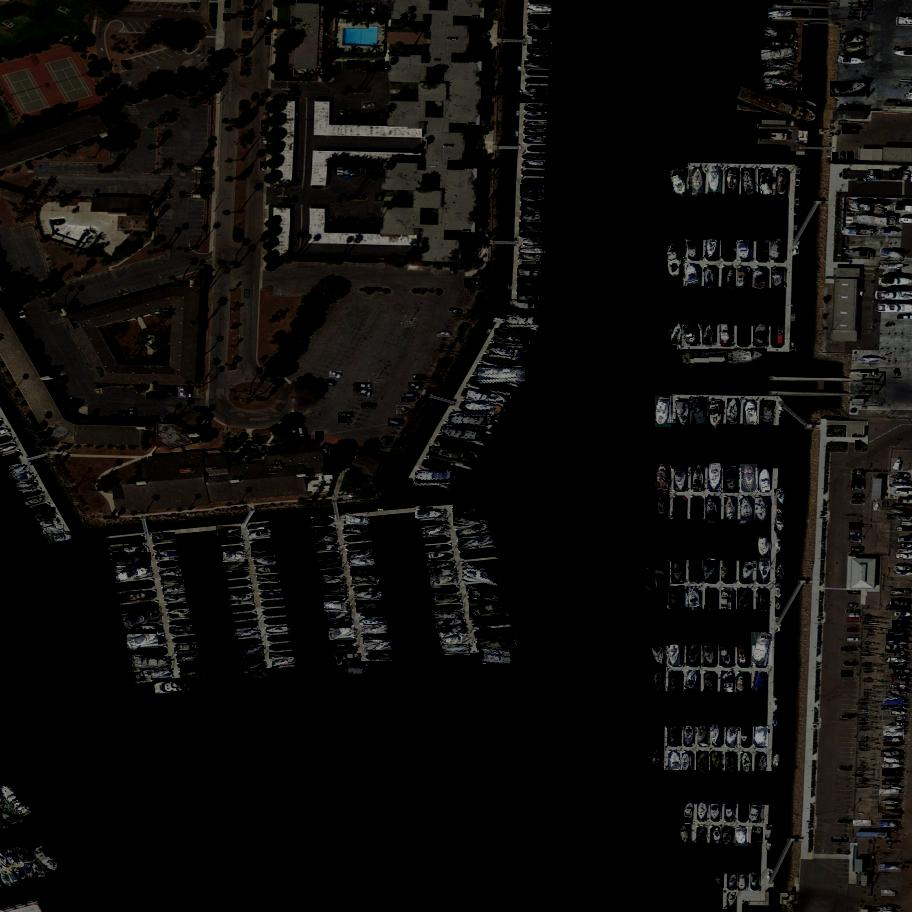ship: (737, 85, 823, 128), (682, 350, 766, 368), (0, 784, 34, 822), (32, 843, 63, 878), (123, 607, 162, 631), (650, 561, 670, 607), (461, 566, 505, 586), (429, 446, 475, 465), (453, 499, 494, 520), (494, 328, 529, 352), (664, 243, 686, 281), (112, 552, 151, 573), (470, 599, 507, 621), (751, 633, 775, 666), (464, 390, 510, 407), (477, 648, 516, 668), (669, 167, 692, 200), (459, 533, 495, 553), (442, 426, 487, 442), (152, 677, 189, 696), (848, 199, 887, 217), (688, 397, 710, 428), (478, 368, 526, 382), (342, 662, 379, 680), (831, 81, 870, 98), (116, 566, 151, 584), (468, 589, 505, 606), (477, 637, 515, 652), (110, 545, 145, 561), (131, 657, 171, 671), (464, 403, 504, 417), (857, 213, 897, 227), (762, 26, 796, 42), (437, 624, 467, 642), (656, 397, 673, 428), (127, 633, 158, 650), (458, 523, 490, 539), (762, 46, 796, 61), (357, 597, 385, 615), (764, 57, 795, 73), (509, 299, 542, 314), (741, 464, 758, 493), (361, 623, 391, 639), (365, 640, 395, 656), (347, 548, 377, 564), (655, 464, 672, 492), (723, 467, 740, 494), (248, 669, 283, 682), (759, 400, 777, 425), (755, 497, 771, 525), (742, 169, 758, 197), (725, 168, 741, 196), (762, 66, 794, 80), (753, 321, 770, 347), (759, 170, 776, 196), (441, 633, 470, 648), (759, 78, 795, 90), (489, 346, 524, 358), (34, 507, 56, 526), (126, 623, 158, 636), (329, 625, 355, 641), (327, 616, 353, 632), (770, 238, 788, 261), (751, 672, 768, 696), (707, 166, 722, 193), (121, 591, 152, 604), (177, 649, 202, 665), (450, 416, 494, 425), (676, 400, 691, 426), (686, 643, 702, 667), (702, 644, 718, 668), (702, 560, 718, 584), (686, 587, 702, 611), (453, 516, 491, 526), (345, 514, 372, 528), (310, 532, 339, 545), (674, 467, 689, 492), (655, 495, 670, 520), (739, 497, 754, 522), (667, 724, 683, 747), (671, 558, 685, 584), (737, 588, 752, 612), (710, 399, 722, 429), (754, 726, 770, 748), (684, 670, 700, 692), (719, 645, 735, 667), (479, 628, 511, 639), (670, 586, 686, 608), (683, 324, 699, 346), (684, 264, 700, 286), (237, 645, 264, 658), (744, 401, 758, 426), (706, 496, 720, 521), (708, 464, 721, 490), (517, 277, 543, 290), (668, 671, 684, 692), (9, 464, 30, 480), (425, 525, 449, 539), (880, 248, 904, 262), (416, 472, 453, 481), (725, 726, 740, 748), (692, 465, 705, 490), (217, 526, 242, 539), (327, 609, 352, 622), (0, 810, 18, 828), (778, 171, 790, 198), (840, 33, 867, 45), (24, 495, 47, 509), (749, 804, 765, 824), (350, 566, 379, 577), (772, 268, 787, 289), (752, 268, 767, 289), (736, 827, 751, 848), (431, 576, 457, 588), (164, 583, 188, 596), (180, 667, 204, 680), (250, 530, 274, 543), (273, 658, 297, 671), (222, 560, 248, 572), (520, 185, 544, 198), (436, 619, 464, 630), (703, 325, 717, 347), (680, 824, 694, 846), (705, 238, 719, 260), (506, 316, 540, 325), (741, 561, 756, 581), (369, 650, 399, 660), (152, 532, 175, 545), (435, 610, 462, 621), (722, 826, 736, 847), (363, 635, 392, 645), (842, 249, 871, 259), (670, 322, 682, 346), (528, 20, 552, 32), (727, 399, 740, 421), (759, 535, 772, 557), (521, 203, 543, 216), (517, 292, 539, 305), (890, 598, 912, 611), (710, 751, 724, 771), (725, 752, 739, 772), (333, 654, 361, 664), (737, 241, 751, 261), (839, 56, 867, 66), (415, 510, 446, 519), (243, 661, 266, 673), (518, 268, 541, 280), (768, 8, 793, 19), (704, 267, 717, 288), (47, 533, 74, 543), (721, 672, 735, 691), (696, 752, 710, 771), (775, 488, 789, 507), (759, 559, 771, 581), (758, 589, 769, 613), (724, 497, 736, 519), (878, 863, 902, 874), (887, 507, 909, 519), (521, 213, 543, 225), (692, 169, 703, 193), (844, 44, 866, 56), (842, 228, 871, 237), (322, 585, 348, 595), (524, 60, 550, 70), (320, 559, 343, 570), (442, 645, 470, 654), (344, 526, 372, 535), (13, 846, 27, 864), (235, 629, 260, 639), (721, 240, 734, 259), (22, 844, 35, 863), (651, 747, 662, 769), (759, 469, 770, 491), (252, 547, 274, 558), (889, 475, 911, 486), (881, 766, 903, 777), (669, 751, 681, 771), (725, 268, 737, 288), (519, 221, 543, 231), (886, 634, 906, 646), (14, 867, 29, 883), (434, 594, 460, 603), (350, 559, 376, 568), (359, 618, 388, 626), (44, 525, 65, 536), (160, 568, 183, 578), (223, 552, 246, 562), (519, 253, 542, 263), (653, 646, 665, 665), (776, 514, 788, 533), (254, 557, 279, 566), (352, 575, 377, 584), (140, 671, 172, 678), (354, 593, 382, 601), (738, 645, 749, 665), (737, 268, 748, 288), (162, 576, 184, 586), (881, 810, 903, 820), (530, 52, 550, 63), (888, 630, 908, 641), (886, 693, 906, 704), (883, 730, 905, 740), (713, 871, 725, 889), (157, 551, 181, 560), (37, 519, 61, 528), (324, 603, 348, 612), (430, 570, 457, 578), (315, 543, 339, 552), (670, 645, 680, 666), (884, 698, 905, 708), (697, 802, 708, 821), (688, 239, 699, 258), (889, 688, 908, 699), (427, 561, 453, 569), (266, 626, 289, 635), (521, 195, 544, 204), (765, 824, 777, 841), (683, 803, 695, 820), (727, 874, 739, 891), (705, 589, 715, 609), (878, 804, 898, 814), (719, 324, 730, 342), (313, 515, 329, 527), (528, 5, 552, 13), (684, 726, 694, 745), (532, 37, 551, 47), (523, 160, 544, 169), (753, 827, 764, 844), (25, 863, 36, 880), (322, 577, 345, 585), (891, 458, 903, 473), (883, 736, 903, 745), (6, 849, 16, 867), (775, 563, 786, 579), (165, 594, 187, 602), (527, 45, 549, 53), (429, 552, 448, 561), (879, 821, 898, 830), (739, 874, 749, 891), (842, 124, 859, 134), (33, 862, 43, 879), (332, 647, 356, 654), (878, 229, 899, 237), (892, 678, 910, 687), (257, 566, 280, 573), (262, 591, 285, 598), (881, 750, 904, 757), (698, 827, 708, 843), (521, 248, 543, 255), (883, 726, 905, 733), (654, 672, 663, 689), (704, 673, 713, 690), (892, 620, 909, 629), (722, 591, 730, 610), (741, 753, 751, 768), (229, 597, 254, 603), (737, 676, 746, 692), (699, 726, 707, 744), (893, 626, 911, 634), (9, 871, 20, 884), (727, 893, 737, 907), (712, 805, 721, 820), (888, 653, 907, 660), (891, 589, 910, 596), (752, 873, 760, 889), (18, 476, 34, 484), (713, 725, 720, 743), (682, 753, 689, 771), (763, 242, 772, 256), (886, 658, 907, 664), (893, 669, 911, 676), (882, 705, 903, 711), (775, 583, 783, 598), (882, 763, 902, 769), (890, 663, 907, 670), (169, 628, 192, 633), (269, 653, 292, 658), (772, 755, 780, 769), (858, 358, 880, 363), (881, 265, 903, 270), (169, 610, 190, 615), (176, 645, 197, 650), (874, 906, 895, 911), (884, 757, 899, 764), (726, 805, 734, 818), (16, 483, 36, 488), (257, 576, 277, 581), (741, 728, 748, 742), (881, 801, 899, 806), (853, 821, 871, 826), (248, 620, 257, 630), (526, 154, 544, 159), (890, 674, 908, 679), (890, 685, 908, 690), (523, 93, 545, 97), (526, 129, 543, 134), (523, 240, 540, 245), (721, 568, 728, 580), (759, 756, 766, 768), (714, 829, 721, 841), (881, 891, 895, 897), (882, 780, 898, 785), (775, 602, 783, 612), (879, 790, 899, 794), (885, 647, 904, 651), (527, 122, 545, 126), (529, 105, 543, 110), (526, 137, 543, 141), (528, 113, 543, 117), (888, 643, 908, 646), (766, 843, 773, 851), (874, 503, 880, 511), (441, 442, 452, 446), (512, 640, 518, 646), (740, 521, 747, 525), (132, 648, 139, 651)
small-vehicle: (353, 388, 372, 398), (396, 405, 412, 415), (121, 59, 134, 71), (464, 278, 481, 287), (119, 410, 130, 423), (389, 418, 404, 427), (361, 101, 376, 110), (449, 307, 465, 315), (889, 168, 899, 180), (352, 166, 362, 178), (371, 3, 381, 15), (364, 4, 374, 16), (409, 382, 422, 391), (62, 396, 75, 405), (375, 60, 385, 71), (128, 408, 137, 420), (347, 60, 356, 72), (351, 1, 360, 13), (322, 379, 335, 387), (850, 522, 863, 530), (315, 432, 325, 442), (902, 171, 911, 182), (329, 371, 341, 379), (363, 60, 371, 72), (869, 169, 877, 181), (853, 480, 866, 487), (841, 671, 854, 678), (353, 383, 371, 388), (893, 368, 902, 378), (876, 169, 884, 180), (437, 331, 451, 337), (856, 178, 868, 185), (344, 3, 352, 13), (179, 388, 187, 398), (261, 121, 269, 131), (367, 169, 375, 179), (413, 375, 426, 381), (450, 266, 458, 275), (339, 418, 351, 424), (377, 169, 385, 178), (849, 532, 861, 538), (850, 537, 862, 543), (851, 547, 863, 553), (404, 393, 418, 398), (847, 638, 860, 643), (376, 193, 384, 201), (832, 838, 848, 842), (299, 429, 306, 438), (261, 138, 268, 147), (344, 167, 351, 176), (337, 167, 344, 175), (358, 4, 365, 12), (340, 109, 346, 118), (339, 413, 352, 417), (362, 404, 375, 408), (847, 604, 857, 609), (266, 11, 273, 18), (169, 388, 175, 396), (260, 161, 266, 169), (856, 441, 862, 449), (266, 36, 271, 45), (840, 152, 845, 161), (402, 398, 413, 402), (853, 494, 864, 498), (848, 628, 859, 632), (848, 618, 860, 621), (357, 61, 362, 68), (832, 153, 837, 160), (848, 152, 852, 160), (188, 389, 193, 395), (263, 113, 268, 119), (842, 648, 857, 650), (224, 14, 228, 21), (851, 486, 865, 488), (849, 614, 860, 615)
